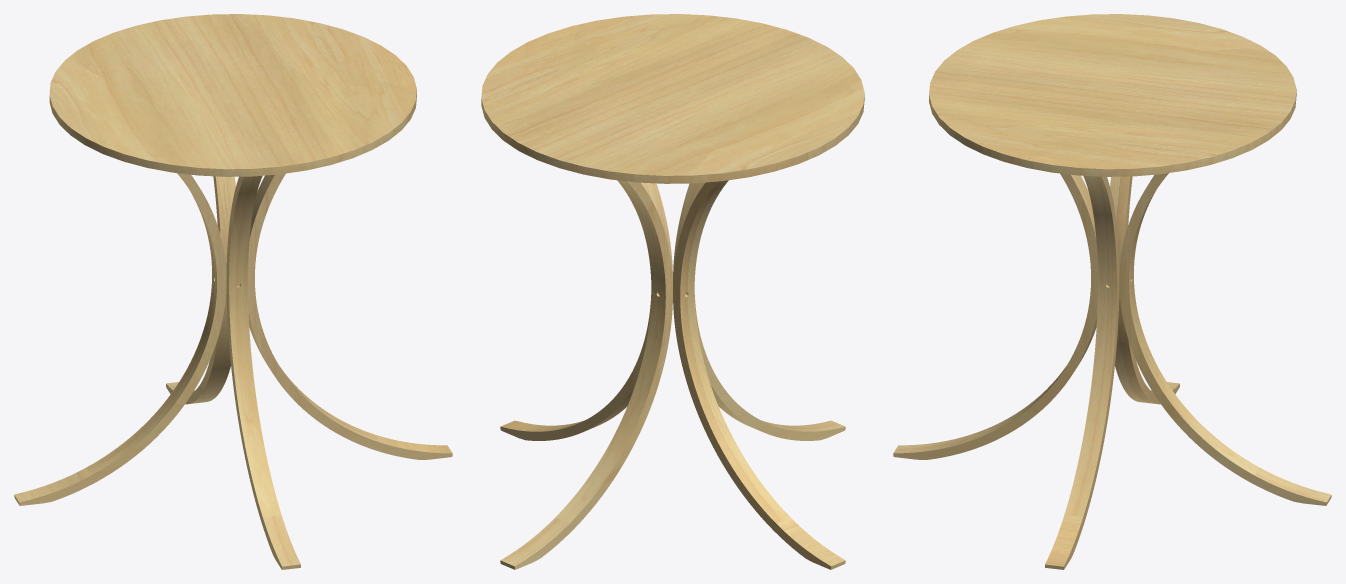
File: IKEA-Fornbro_pedestal_table-3D.DAE
3 views of the same model, side by side, from view 1: azimuth 30°, elevation 25°; view 2: azimuth 150°, elevation 25°; view 3: azimuth 270°, elevation 25° (orthographic). The views are drawn at different scales.
Parts seen in each view (by area): view 1: Loft03; view 2: Loft03; view 3: Loft03.
Boxes of the visible parts, left/top/right/bottom form: Loft03: left=14, top=14, right=452, bottom=569; Loft03: left=481, top=14, right=864, bottom=569; Loft03: left=893, top=14, right=1331, bottom=569.
Size of the model in its own units: 532 by 517 by 532.
